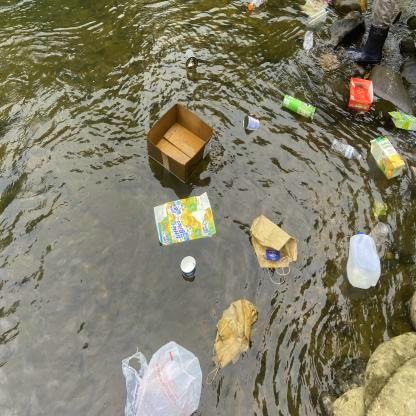Metal: (279, 92, 317, 123), (241, 111, 260, 131)
Plastic: (117, 339, 205, 416), (342, 226, 380, 290), (328, 137, 362, 163), (182, 47, 199, 70), (244, 0, 270, 12)
Trash: (203, 295, 260, 372), (245, 211, 300, 287), (178, 253, 198, 279)
